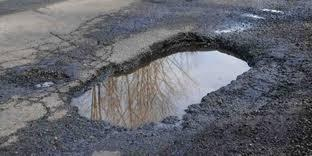alligator-crack: (29, 23, 119, 63)
pothole: (72, 33, 253, 134), (14, 71, 68, 90)
